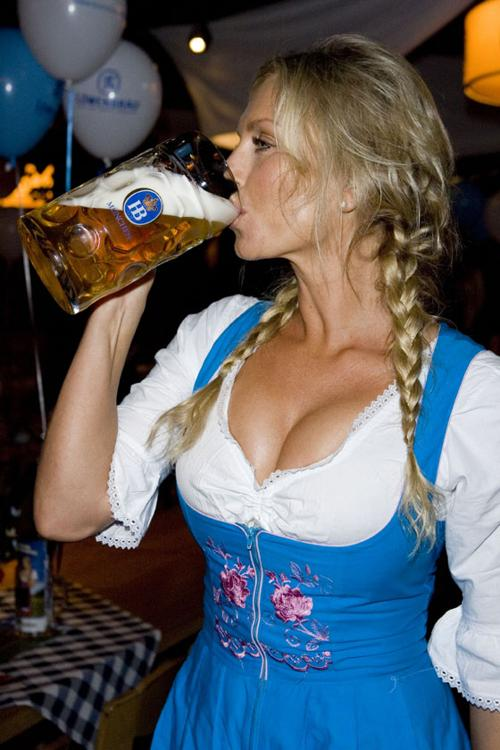person: (33, 28, 499, 750)
